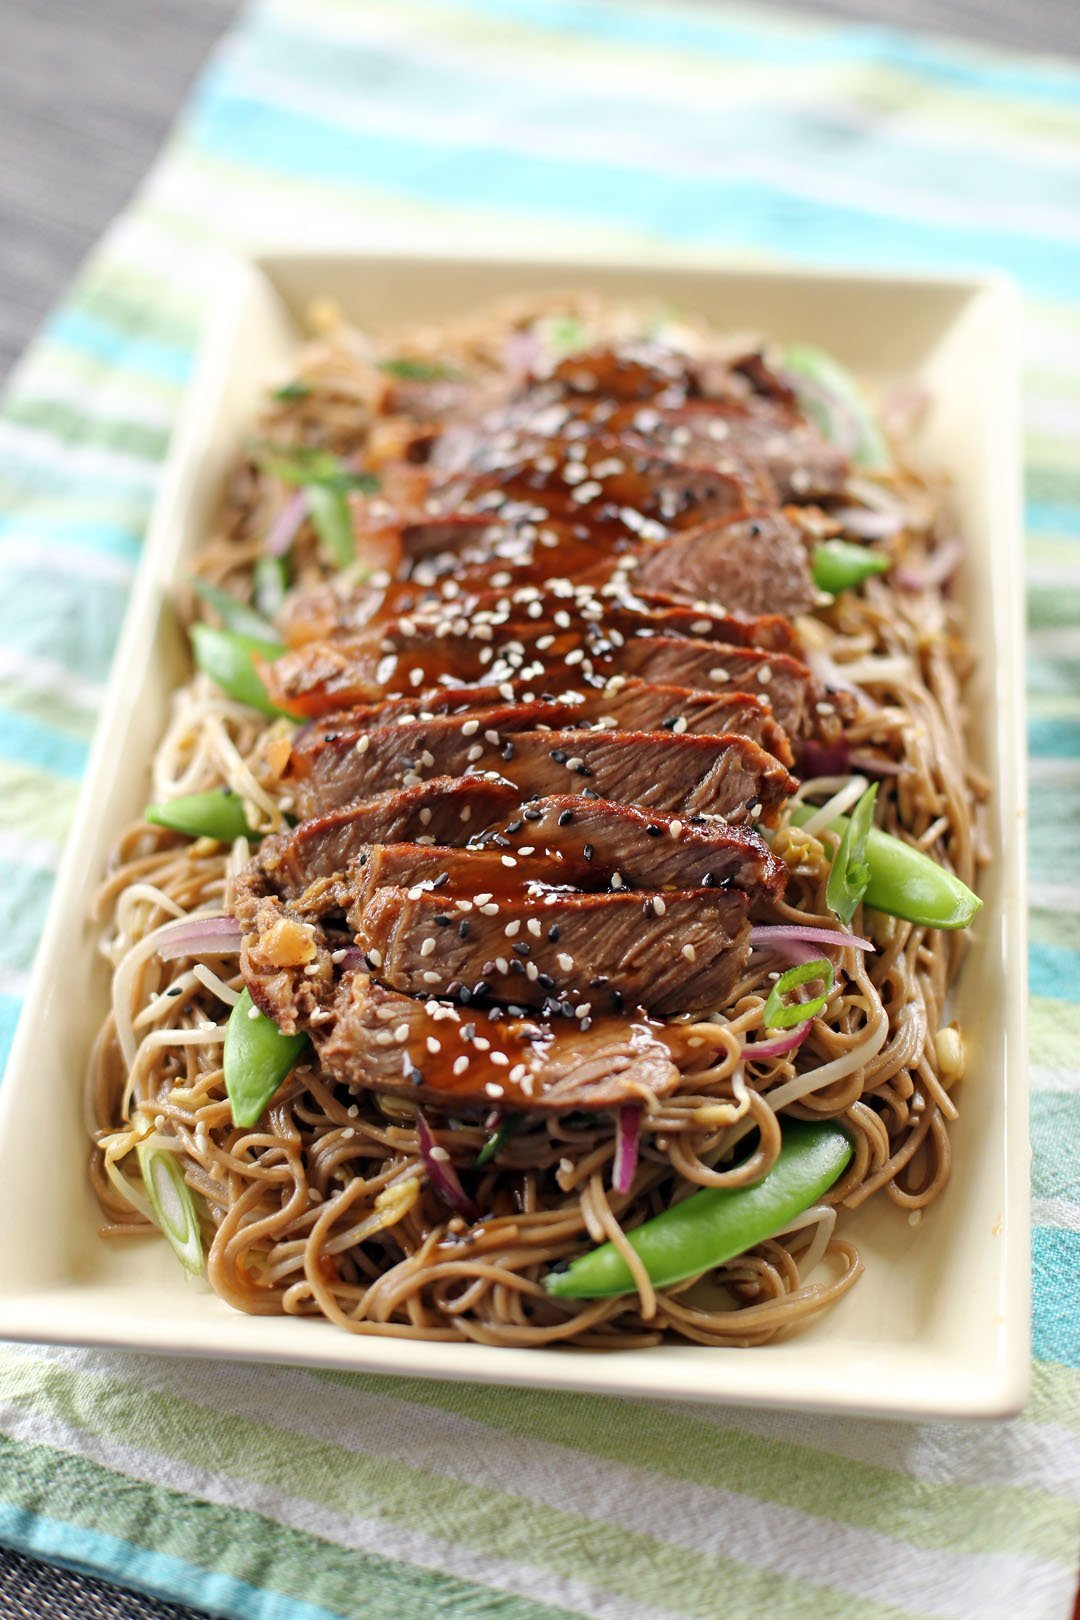Soba: (165, 274, 1000, 1432)
